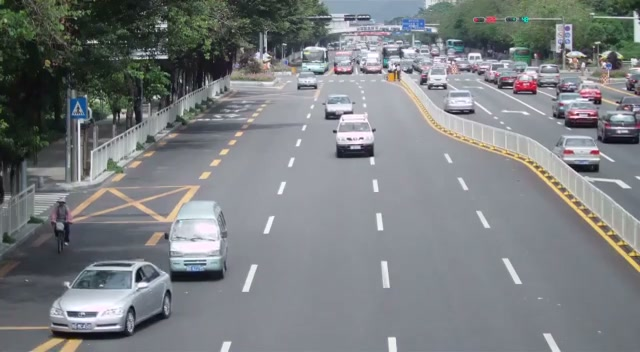bus: (301, 46, 329, 75)
car: (48, 259, 173, 338), (168, 200, 230, 280), (334, 114, 376, 158), (554, 135, 601, 171), (597, 110, 639, 144), (564, 101, 599, 128), (551, 93, 583, 118), (324, 94, 355, 119), (442, 90, 474, 114), (425, 65, 448, 89), (577, 83, 602, 104), (513, 75, 537, 94), (297, 71, 318, 90), (497, 70, 518, 88), (559, 77, 582, 93), (334, 57, 354, 75)
pedestrian: (48, 198, 71, 246)
